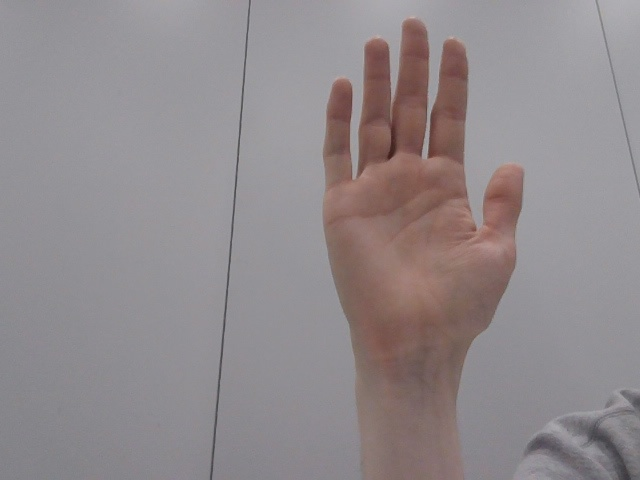nada: (273, 9, 588, 382)
